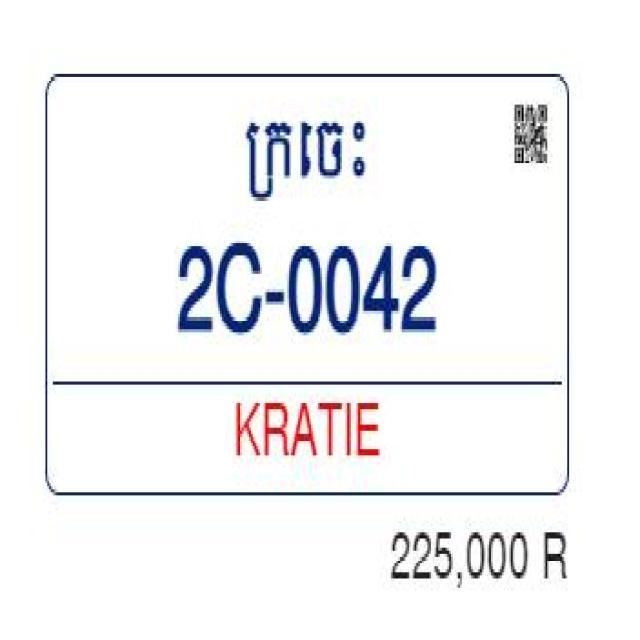Kratie: (240, 93, 373, 205)
